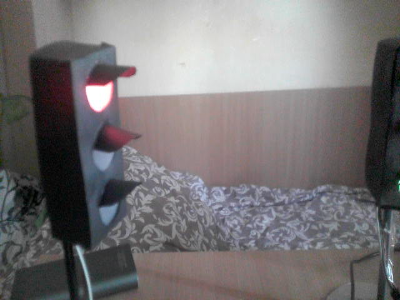trafficlight_red: (68, 49, 135, 232)
